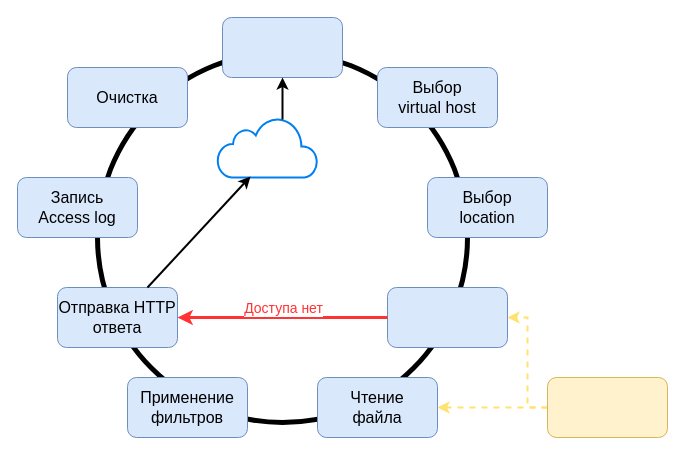
Image size: 685x455. Some labels were removed from this diagram. The centre of each missing label's shape, as x and y in pixels:
"Модуль" belongs at point 607,407.
"Проверка доступа" belongs at point 447,317.
"Чтение HTTP запроса" belongs at point 282,47.
